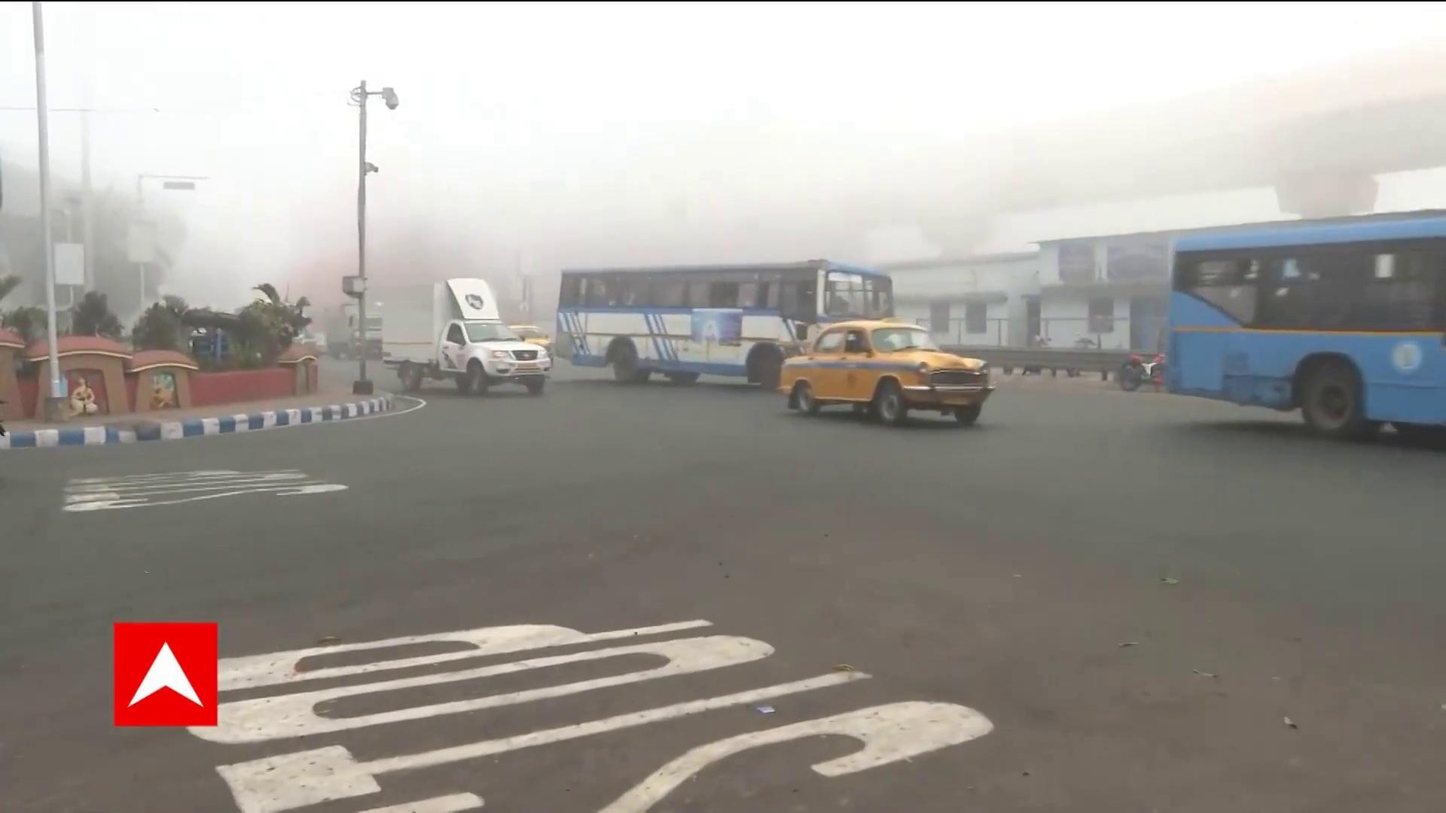Bus: (1165, 204, 1446, 446), (549, 261, 901, 396)
Car: (775, 323, 995, 429)
Truck: (378, 272, 554, 388)
